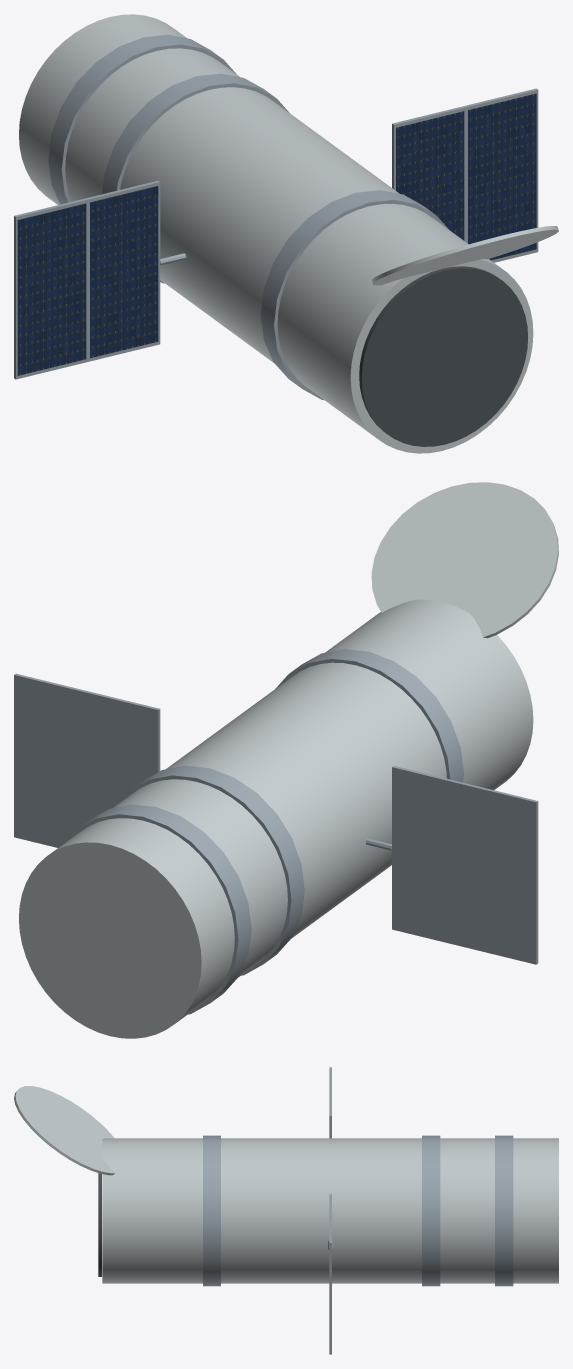
The model's file is hubble.glb.
3 renders of one model, top to bottom at view 1: azimuth 30°, elevation 25°; view 2: azimuth 150°, elevation 25°; view 3: azimuth 270°, elevation 25°, orthographic. The views are drawn at different scales.
Visible parts, largest first — view 1: Optical telescope assembly, Photovoltaic laminates (×4), Entrance aperture, Equipment collar (×3), Array frame (×4), Open aperture door; view 2: Optical telescope assembly, Array frame (×4), Open aperture door, Equipment collar (×3); view 3: Optical telescope assembly, Equipment collar (×3), Open aperture door, Entrance aperture, Array frame.
Part boxes in pixels (bbox=[...]): Optical telescope assembly: bbox=[19, 14, 533, 453]; Photovoltaic laminates (×4): bbox=[17, 93, 536, 375]; Entrance aperture: bbox=[359, 266, 528, 446]; Equipment collar (×3): bbox=[48, 34, 448, 400]; Array frame (×4): bbox=[14, 88, 538, 379]; Open aperture door: bbox=[371, 226, 558, 285]; Optical telescope assembly: bbox=[19, 599, 533, 1038]; Array frame (×4): bbox=[14, 673, 538, 964]; Open aperture door: bbox=[371, 482, 558, 638]; Equipment collar (×3): bbox=[63, 649, 463, 1014]; Optical telescope assembly: bbox=[102, 1138, 558, 1283]; Equipment collar (×3): bbox=[203, 1135, 513, 1286]; Open aperture door: bbox=[14, 1086, 115, 1175]; Entrance aperture: bbox=[98, 1173, 101, 1276]; Array frame: bbox=[329, 1218, 331, 1354].
Bounding box in the file's own units: 12 × 5.85 × 15.76.
Materials: 4 (1 with a texture image).
